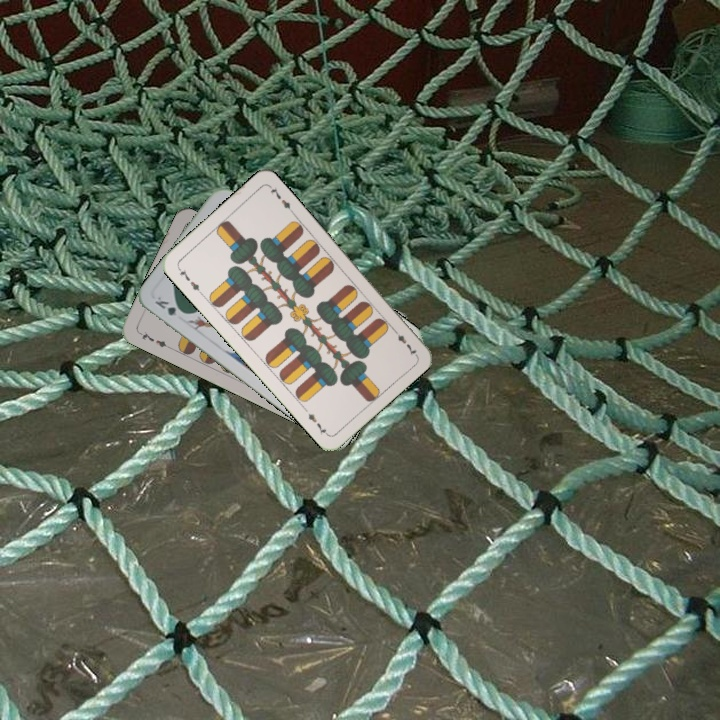E7: (388, 324, 419, 358), (174, 263, 204, 297), (135, 328, 173, 351)
GK: (151, 292, 188, 319)
